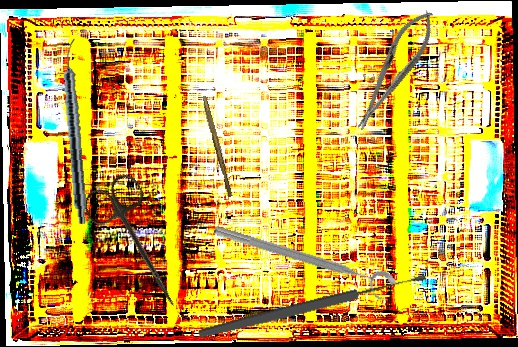Fixation Ring: (208, 220, 399, 304)
Handpiece: (58, 37, 93, 226)
Iris Scissors: (78, 169, 202, 320)
Needle Holder: (344, 2, 444, 138)
Scalpel Handle: (199, 95, 235, 198)
Surgical Spoon: (195, 270, 430, 342)
